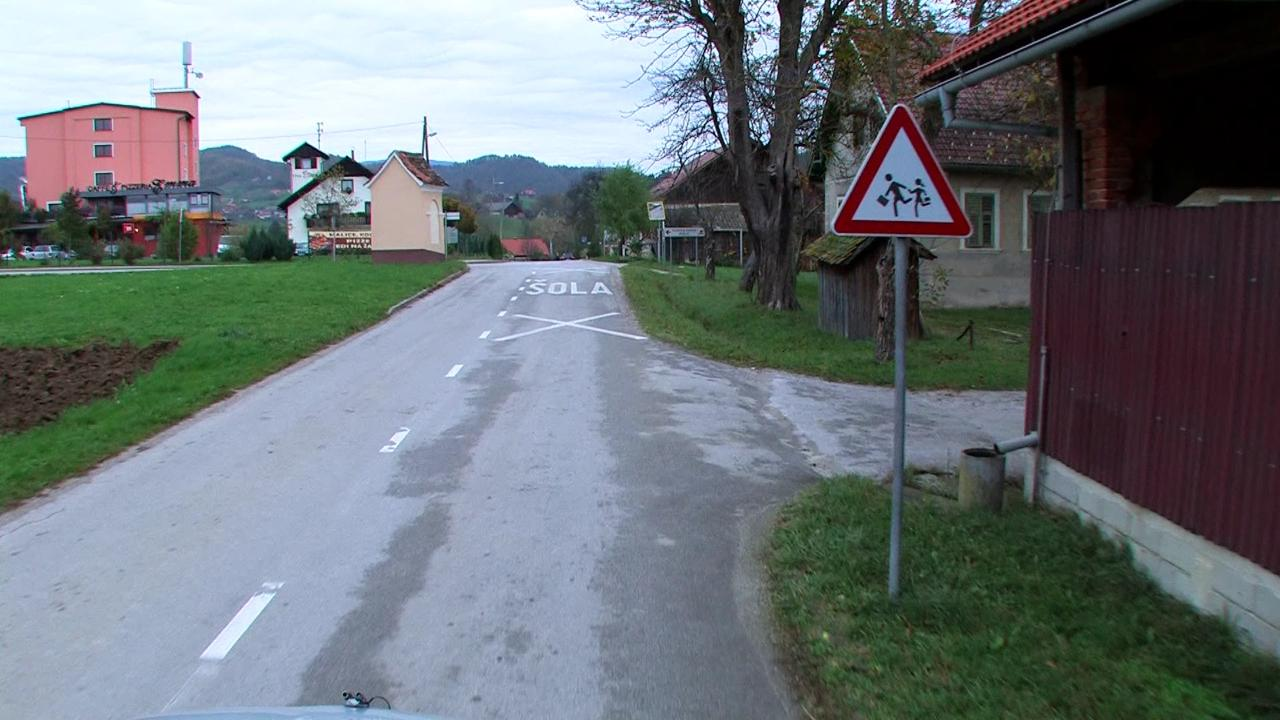Triangle: (830, 102, 976, 240)
